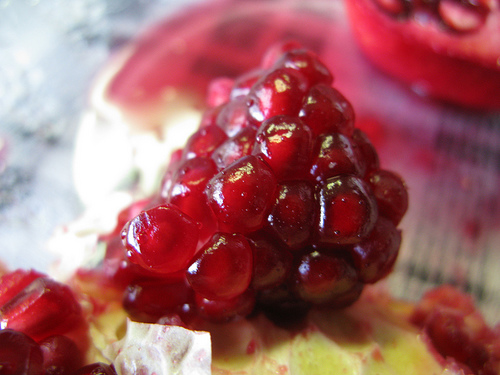pomogranate: (0, 50, 499, 374)
